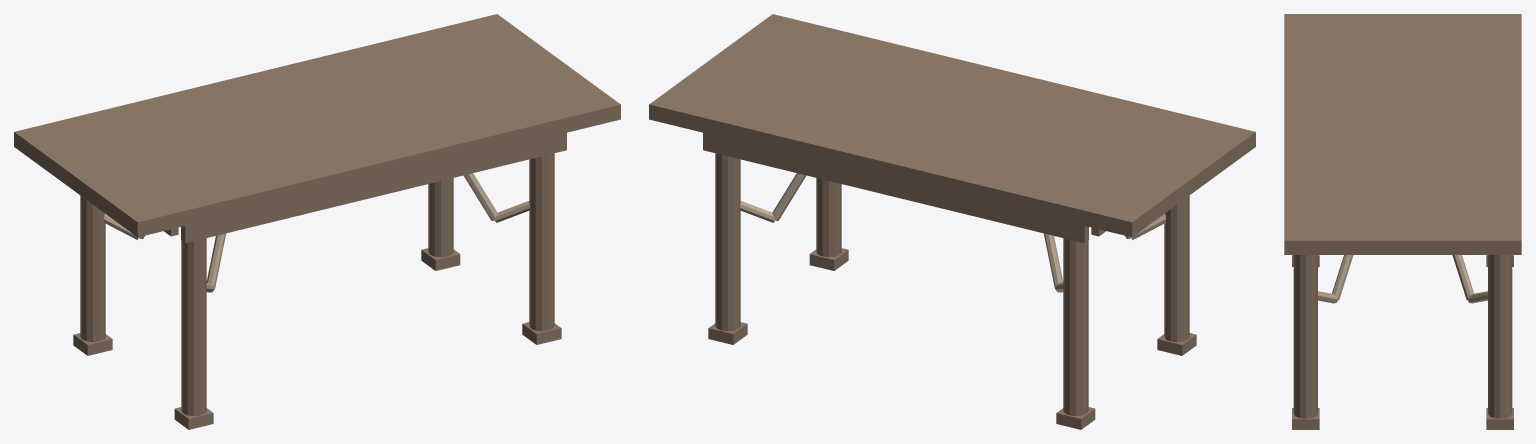
Rendered from prop_scholar_desk.glb.
3 renders of one model, left to right at view 1: azimuth 30°, elevation 25°; view 2: azimuth 150°, elevation 25°; view 3: azimuth 270°, elevation 25°, orthographic. The views are drawn at different scales.
Visible parts, largest first — view 1: prop_scholar_desk/desk_top_00000, prop_scholar_desk/desk_apron_front_00017, prop_scholar_desk/desk_leg_00001, prop_scholar_desk/desk_leg_00009, prop_scholar_desk/desk_leg_00005, prop_scholar_desk/desk_leg_00013, prop_scholar_desk/desk_horsehoof_foot_00010, prop_scholar_desk/desk_horsehoof_foot_00014, prop_scholar_desk/desk_horsehoof_foot_00006; view 2: prop_scholar_desk/desk_top_00000, prop_scholar_desk/desk_apron_front_00018, prop_scholar_desk/desk_leg_00005, prop_scholar_desk/desk_leg_00013, prop_scholar_desk/desk_leg_00001, prop_scholar_desk/desk_leg_00009, prop_scholar_desk/desk_horsehoof_foot_00010, prop_scholar_desk/desk_horsehoof_foot_00014, prop_scholar_desk/desk_horsehoof_foot_00002; view 3: prop_scholar_desk/desk_top_00000, prop_scholar_desk/desk_leg_00009, prop_scholar_desk/desk_leg_00013, prop_scholar_desk/desk_spandrel_arm_top_00012, prop_scholar_desk/desk_spandrel_arm_top_00016, prop_scholar_desk/desk_horsehoof_foot_00010, prop_scholar_desk/desk_horsehoof_foot_00014.
Boxes of the visible parts, x1,y1,x2,y2 form: prop_scholar_desk/desk_top_00000: [14, 14, 620, 237]; prop_scholar_desk/desk_apron_front_00017: [181, 132, 566, 243]; prop_scholar_desk/desk_leg_00001: [181, 238, 206, 415]; prop_scholar_desk/desk_leg_00009: [529, 153, 554, 331]; prop_scholar_desk/desk_leg_00005: [80, 195, 105, 341]; prop_scholar_desk/desk_leg_00013: [428, 178, 453, 257]; prop_scholar_desk/desk_horsehoof_foot_00010: [522, 322, 561, 344]; prop_scholar_desk/desk_horsehoof_foot_00014: [421, 248, 460, 270]; prop_scholar_desk/desk_horsehoof_foot_00006: [73, 333, 112, 355]; prop_scholar_desk/desk_top_00000: [649, 14, 1255, 237]; prop_scholar_desk/desk_apron_front_00018: [703, 132, 1088, 243]; prop_scholar_desk/desk_leg_00005: [1063, 238, 1088, 415]; prop_scholar_desk/desk_leg_00013: [715, 153, 740, 331]; prop_scholar_desk/desk_leg_00001: [1164, 195, 1189, 341]; prop_scholar_desk/desk_leg_00009: [816, 178, 841, 257]; prop_scholar_desk/desk_horsehoof_foot_00010: [809, 248, 848, 270]; prop_scholar_desk/desk_horsehoof_foot_00014: [708, 322, 747, 344]; prop_scholar_desk/desk_horsehoof_foot_00002: [1157, 333, 1196, 355]; prop_scholar_desk/desk_top_00000: [1284, 14, 1521, 254]; prop_scholar_desk/desk_leg_00009: [1293, 255, 1317, 418]; prop_scholar_desk/desk_leg_00013: [1488, 255, 1512, 418]; prop_scholar_desk/desk_spandrel_arm_top_00012: [1332, 255, 1353, 299]; prop_scholar_desk/desk_spandrel_arm_top_00016: [1452, 255, 1473, 299]; prop_scholar_desk/desk_horsehoof_foot_00010: [1292, 408, 1319, 429]; prop_scholar_desk/desk_horsehoof_foot_00014: [1486, 408, 1513, 429].
Bounding box in the file's own units: 1.85 × 0.82 × 0.82.
